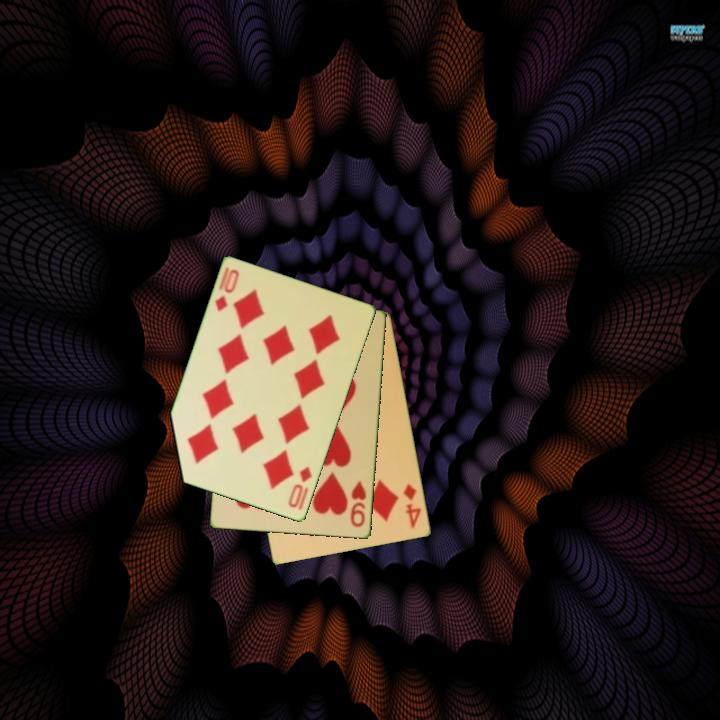10d: (211, 266, 242, 315), (285, 463, 315, 513)
4d: (400, 480, 424, 531)
9h: (347, 477, 370, 530)
